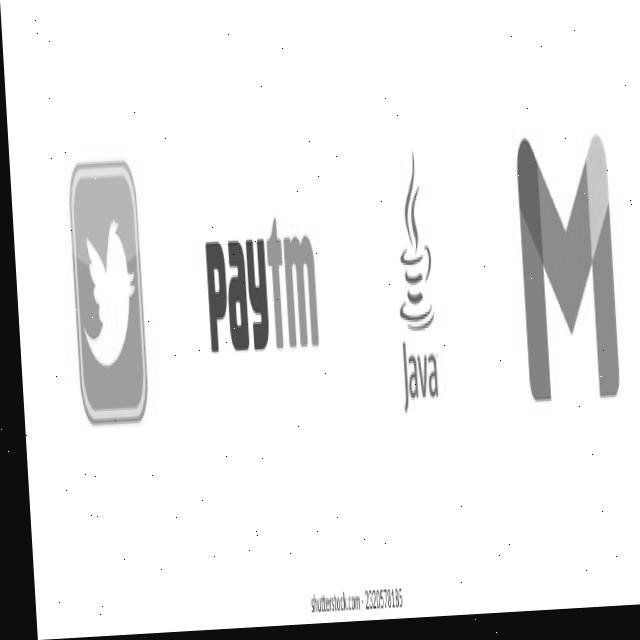fully_visible: (190, 184, 324, 421)
